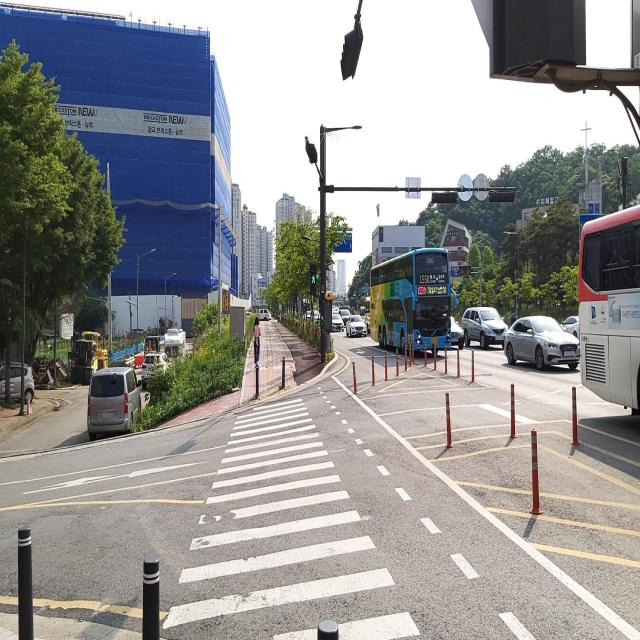초록불: (309, 260, 317, 296)
횡단보도: (164, 398, 421, 639)
